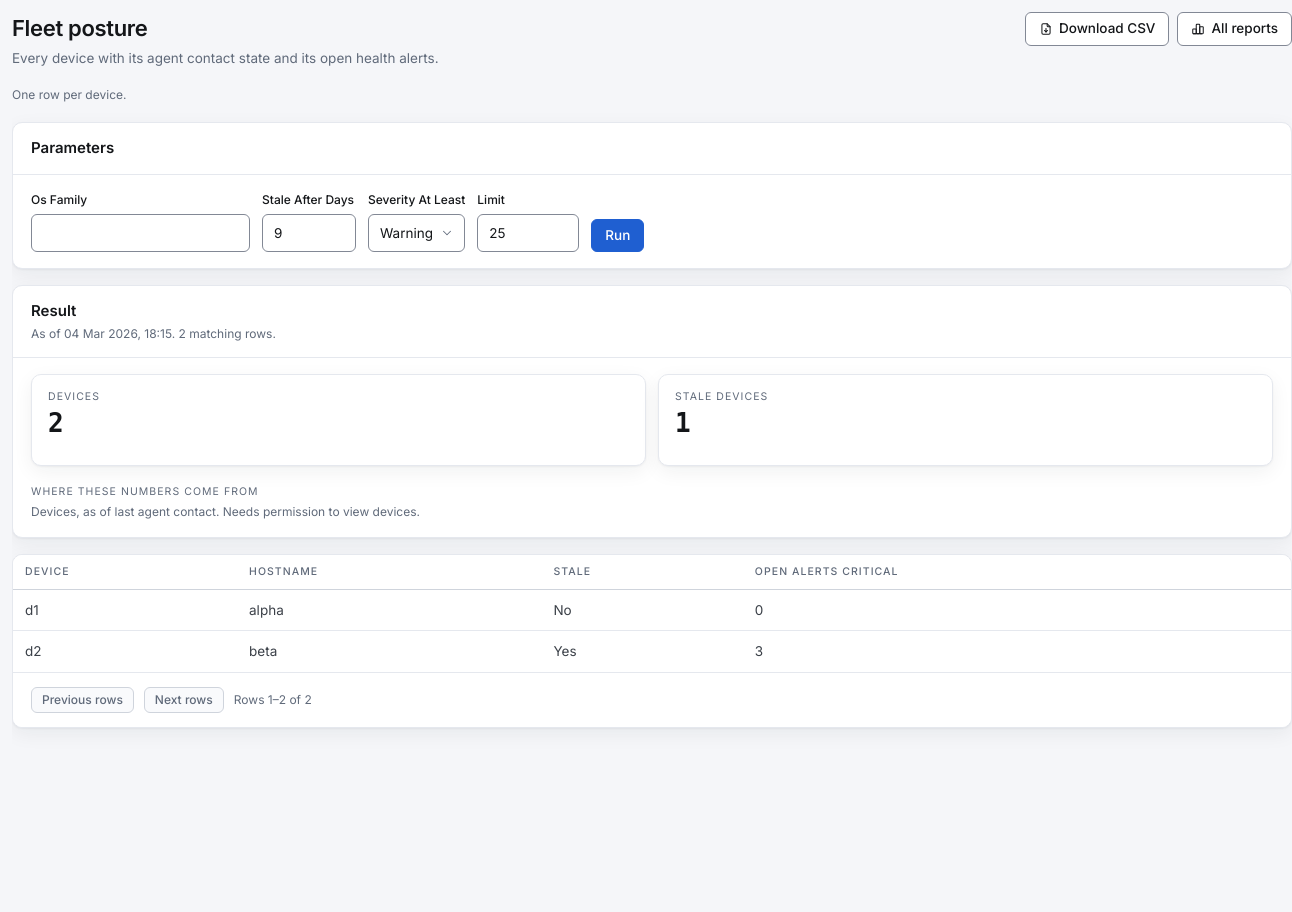
Test: a report page › says WHY an export failed for anything that is not the 413 it has its own words for
This screenshot has width=1292, height=912.
Expected: the text "As of 04 Mar 2026, 18:15. 2 matching rows." is shown, [31, 324, 276, 342]
What coordinates should you click on to do the following:
click the button "Download CSV"
I would click on:
 (1097, 29)
Its box is [1025, 12, 1170, 46].
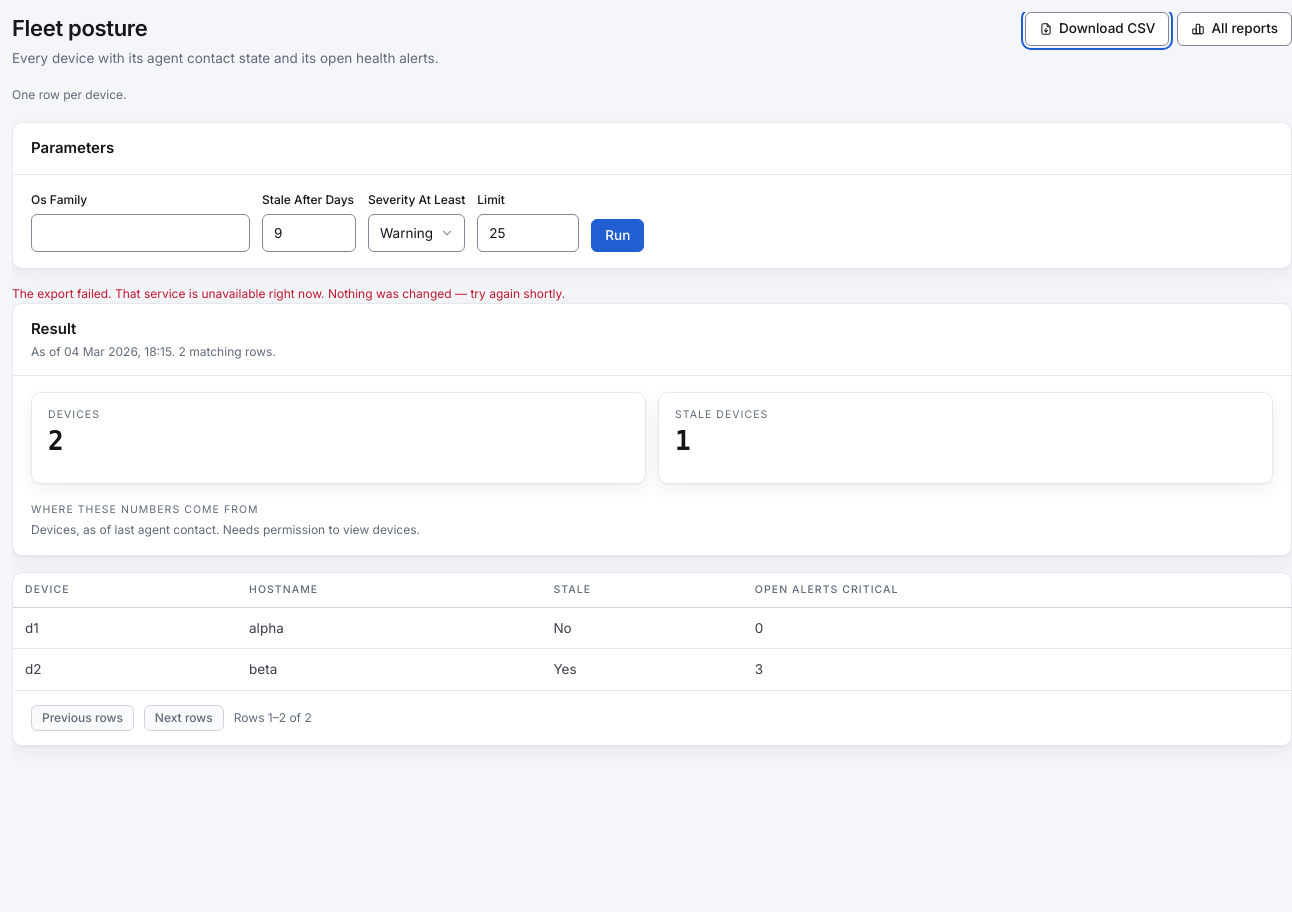
Expected: the 1st message shows "The export failed.", [12, 286, 565, 301]
Expected: the 1st message shows "That service is unavailable right now.", [12, 286, 565, 301]
